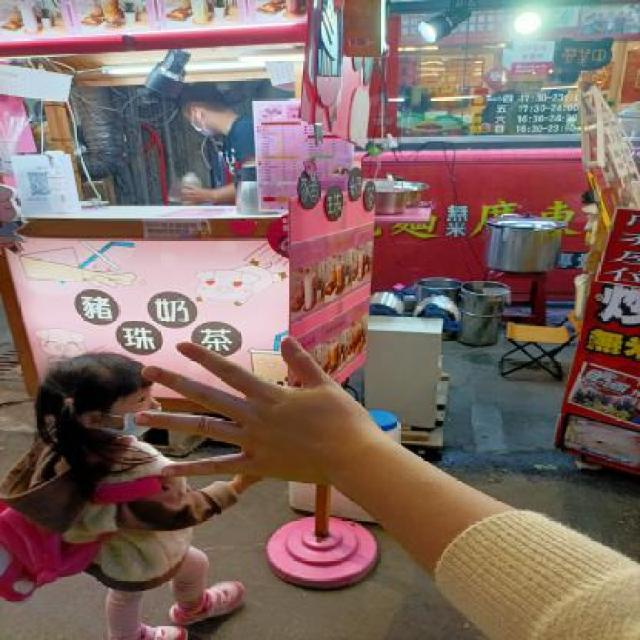bare_hand: (126, 324, 402, 498)
